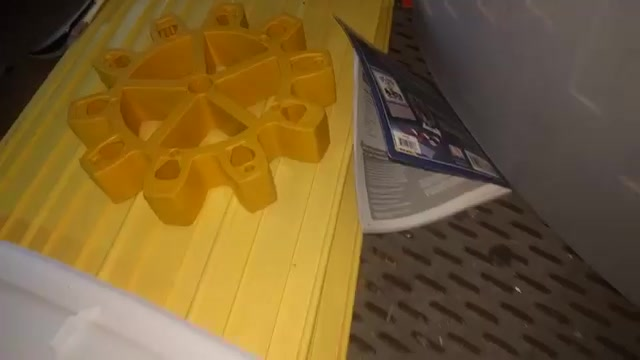gear: (62, 2, 340, 240)
